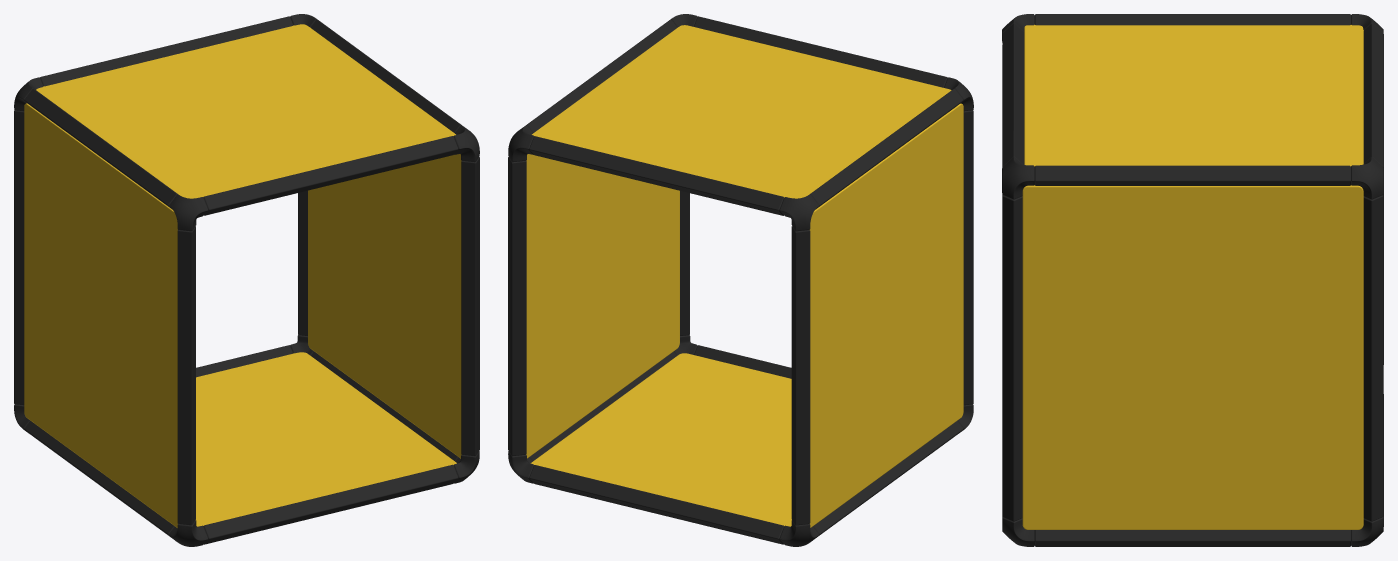
3 views of the same model, side by side, from view 1: azimuth 30°, elevation 25°; view 2: azimuth 150°, elevation 25°; view 3: azimuth 270°, elevation 25° (orthographic). The views are drawn at different scales.
Parts seen in each view (by area): view 1: 374x374x420; view 2: 374x374x420; view 3: 374x374x420.
Part boxes in pixels (bbox=[...]): 374x374x420: bbox=[14, 14, 479, 546]; 374x374x420: bbox=[508, 14, 973, 546]; 374x374x420: bbox=[1002, 14, 1383, 546].
Size of the model in its own units: 0.4517 by 0.4976 by 0.4513.
